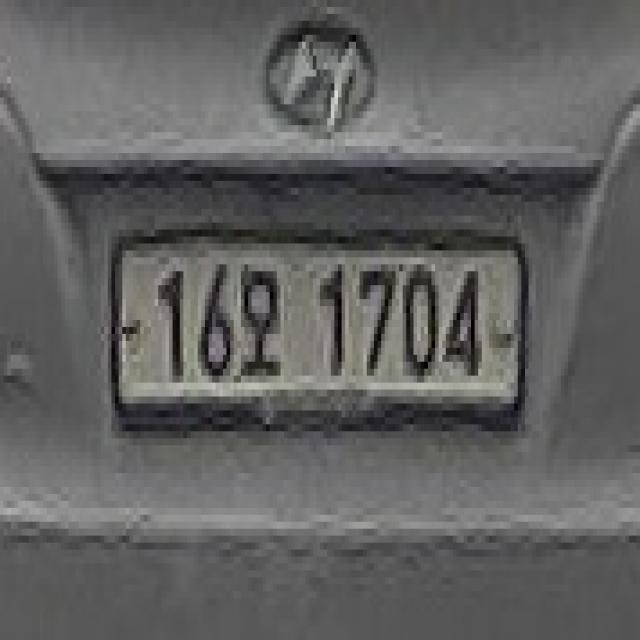0: (399, 258, 442, 390)
1: (155, 258, 194, 397), (316, 250, 352, 390)
4: (442, 264, 489, 390)
6: (194, 258, 237, 390)
7: (356, 258, 395, 382)
license_plate: (104, 216, 536, 452)
mo: (237, 250, 288, 396)
